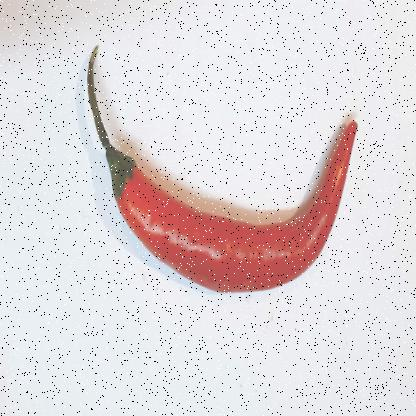chili: (86, 43, 359, 296)
